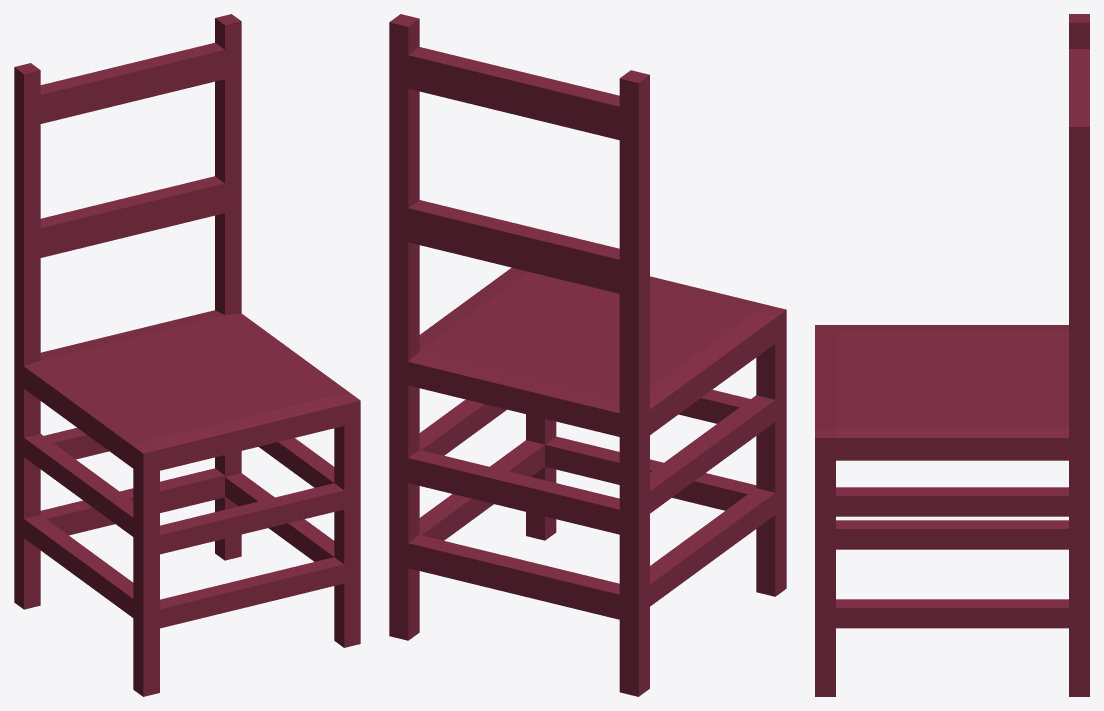
File: cube.142_lev3.glb
The picture shows the model from 3 angles, left to right: view 1: azimuth 30°, elevation 25°; view 2: azimuth 150°, elevation 25°; view 3: azimuth 270°, elevation 25°; orthographic projection. The views are drawn at different scales.
Parts seen in each view (by area): view 1: cube.142_lev3; view 2: cube.142_lev3; view 3: cube.142_lev3.
Boxes of the visible parts, bbox=[...] form: cube.142_lev3: bbox=[14, 14, 360, 696]; cube.142_lev3: bbox=[389, 14, 786, 696]; cube.142_lev3: bbox=[815, 14, 1089, 696].
Size of the model in its own units: 0.3303 by 0.7772 by 0.3398.
